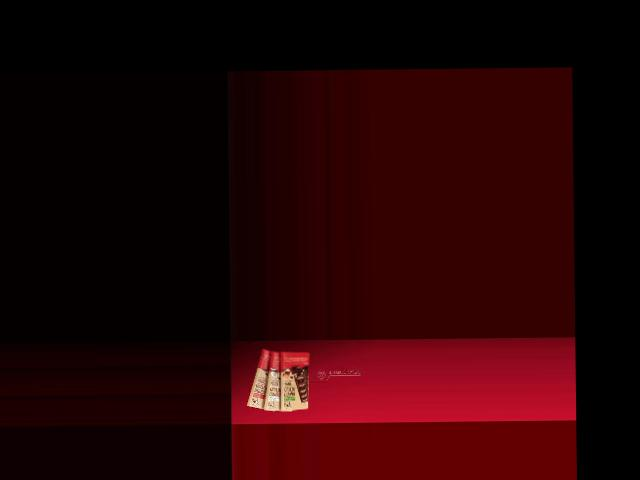chocolate: (246, 346, 277, 412)
